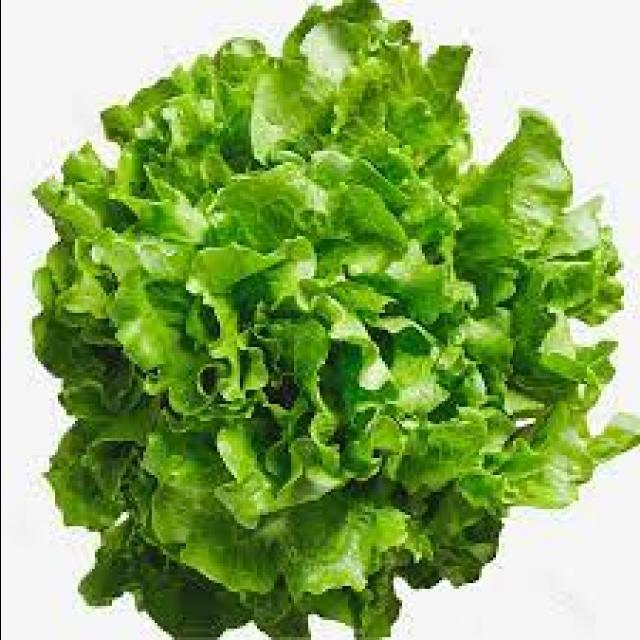Lettuce: (36, 1, 640, 640)
